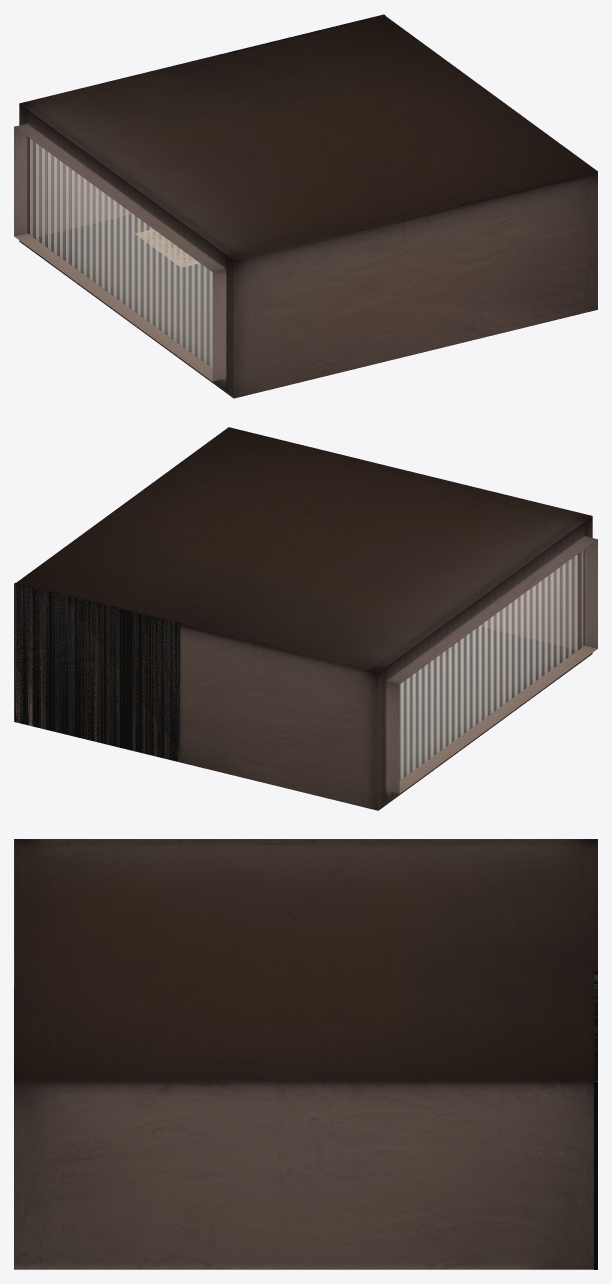
File: oldscene.gltf
3 views of the same model, one above another, from view 1: azimuth 30°, elevation 25°; view 2: azimuth 150°, elevation 25°; view 3: azimuth 270°, elevation 25° (orthographic). The views are drawn at different scales.
Visible parts, largest first — view 1: house, curtain, floor, carpet; view 2: house, curtain, dec, floor; view 3: house, dec.
Boxes of the visible parts, bbox=[...] form: house: bbox=[14, 14, 597, 398]; curtain: bbox=[28, 137, 212, 368]; floor: bbox=[35, 214, 209, 365]; carpet: bbox=[119, 218, 197, 266]; house: bbox=[14, 427, 597, 810]; curtain: bbox=[399, 550, 583, 780]; dec: bbox=[14, 582, 180, 762]; floor: bbox=[400, 627, 574, 779]; house: bbox=[14, 839, 597, 1269]; dec: bbox=[594, 971, 597, 1269].
Size of the model in its own units: 9.71 by 3.4 by 9.53.
Materials: 18 (18 with a texture image).
